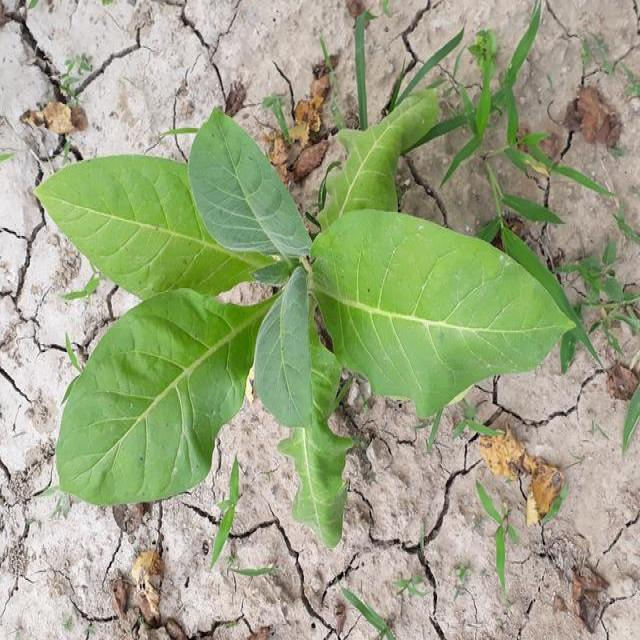crop: (34, 103, 574, 534)
